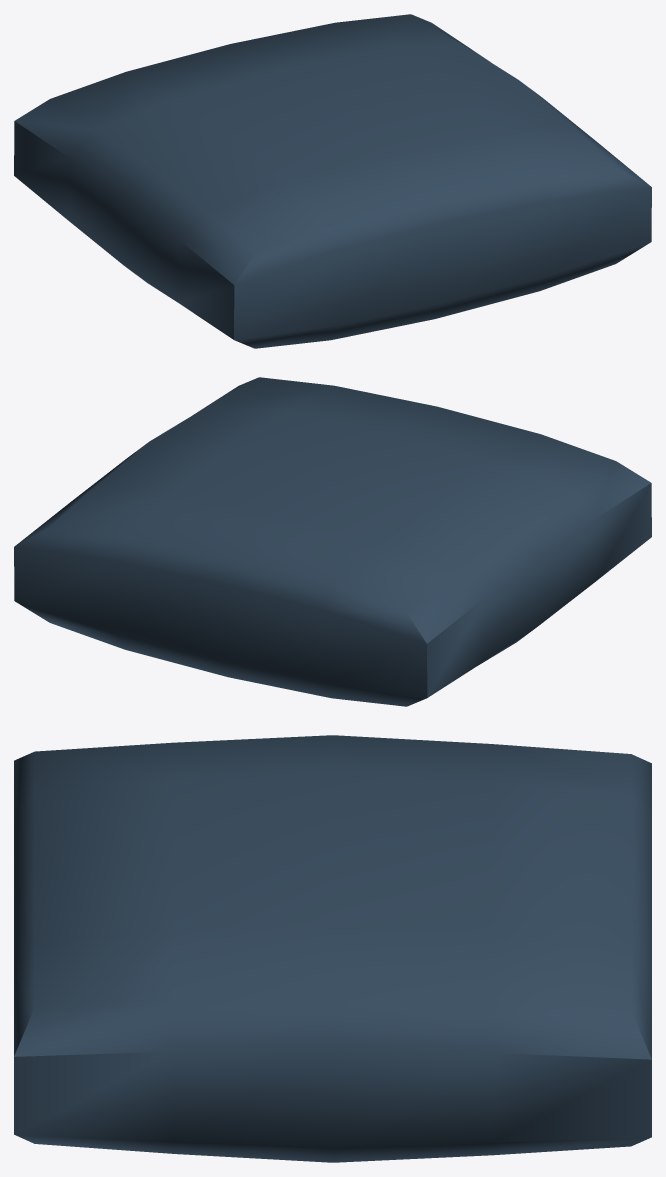
Rendered from tile_basic.fbx.
3 renders of one model, top to bottom at view 1: azimuth 30°, elevation 25°; view 2: azimuth 150°, elevation 25°; view 3: azimuth 270°, elevation 25°, orthographic. The views are drawn at different scales.
Parts seen in each view (by area): view 1: Couch_Medium1.001; view 2: Couch_Medium1.001; view 3: Couch_Medium1.001.
Boxes of the visible parts, x1=… form: Couch_Medium1.001: x1=14, y1=14, x2=651, y2=348; Couch_Medium1.001: x1=14, y1=377, x2=651, y2=706; Couch_Medium1.001: x1=14, y1=735, x2=651, y2=1162.
Bounding box in the file's own units: 185 × 63.08 × 169.
